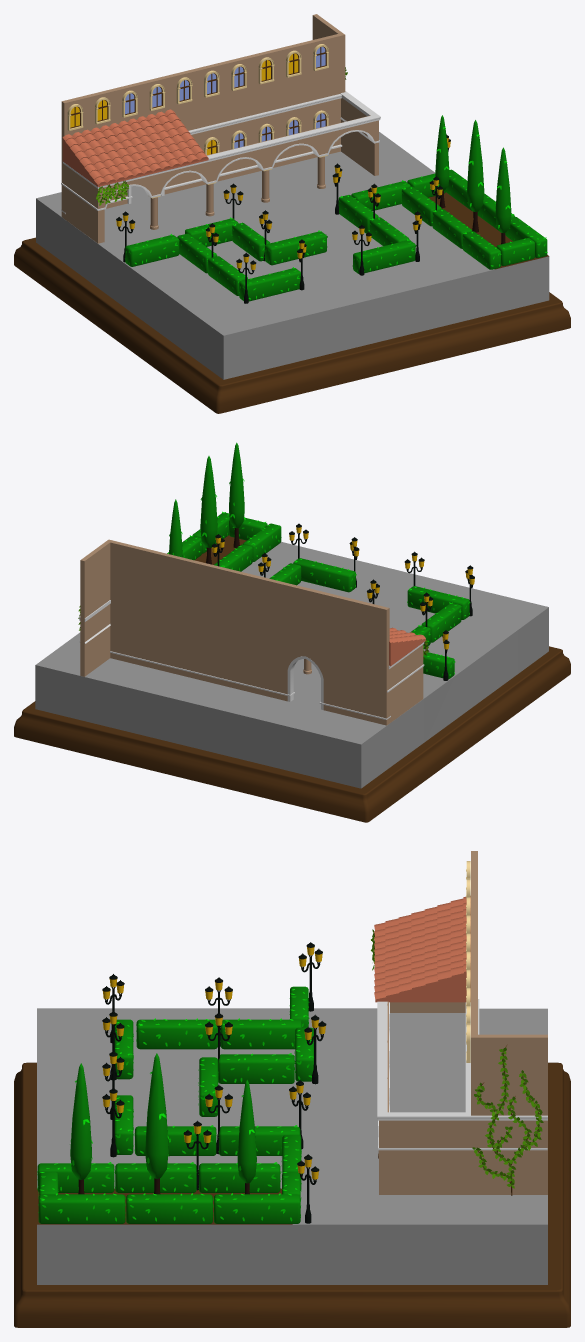
Rendered from level_5.FBX.
3 renders of one model, top to bottom at view 1: azimuth 30°, elevation 25°; view 2: azimuth 150°, elevation 25°; view 3: azimuth 270°, elevation 25°, orthographic. The views are drawn at different scales.
Parts seen in each view (by area): view 1: Object123; view 2: Object123; view 3: Object123.
Part boxes in pixels (left/top/right/bottom): Object123: left=14, top=14, right=570, bottom=413; Object123: left=14, top=442, right=570, bottom=822; Object123: left=14, top=851, right=570, bottom=1327.
Bounding box in the file's own units: 132 × 65.76 × 132.
